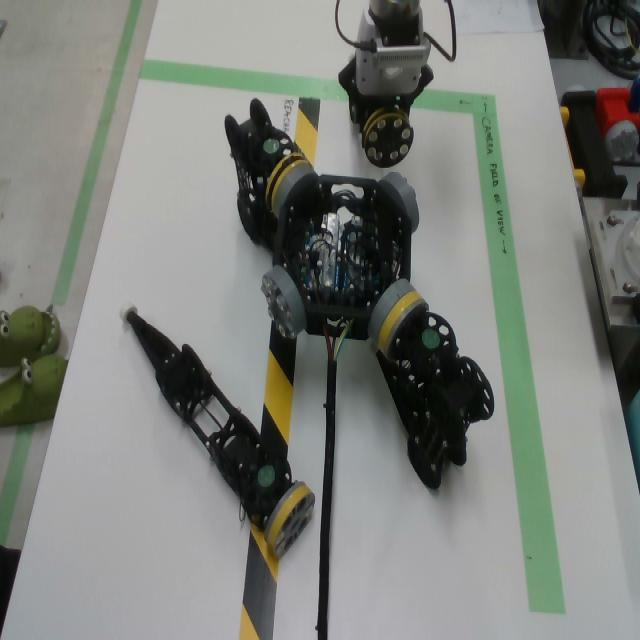body: (274, 175, 411, 340)
body_connector: (261, 265, 305, 340), (367, 279, 414, 340), (378, 172, 420, 233), (274, 164, 318, 217)
gripper: (338, 49, 434, 135)
leg: (119, 299, 315, 557), (376, 291, 495, 491), (225, 99, 309, 253), (362, 96, 414, 169), (349, 99, 358, 125)
leg_connector: (264, 481, 316, 556), (362, 105, 414, 169), (378, 292, 426, 355), (265, 153, 309, 213)
leg_marker: (258, 465, 275, 487), (422, 329, 440, 349), (263, 139, 278, 152)
